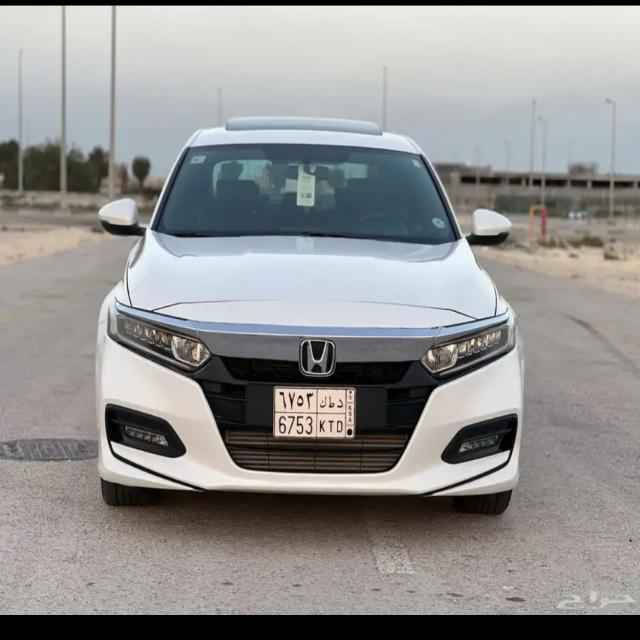license_plate: (276, 388, 356, 442)
